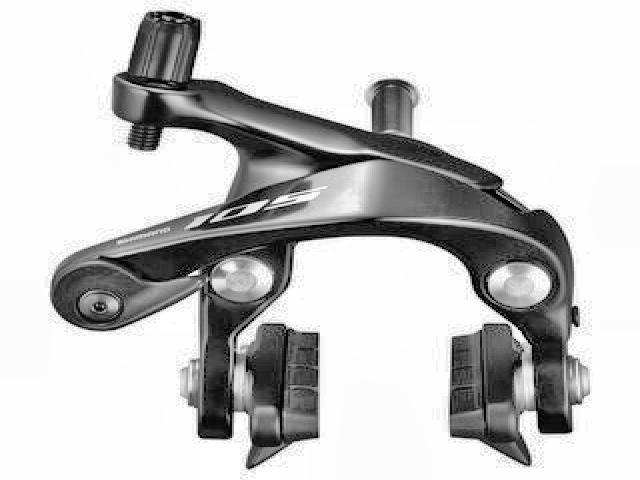rim_brake: (47, 9, 589, 471)
